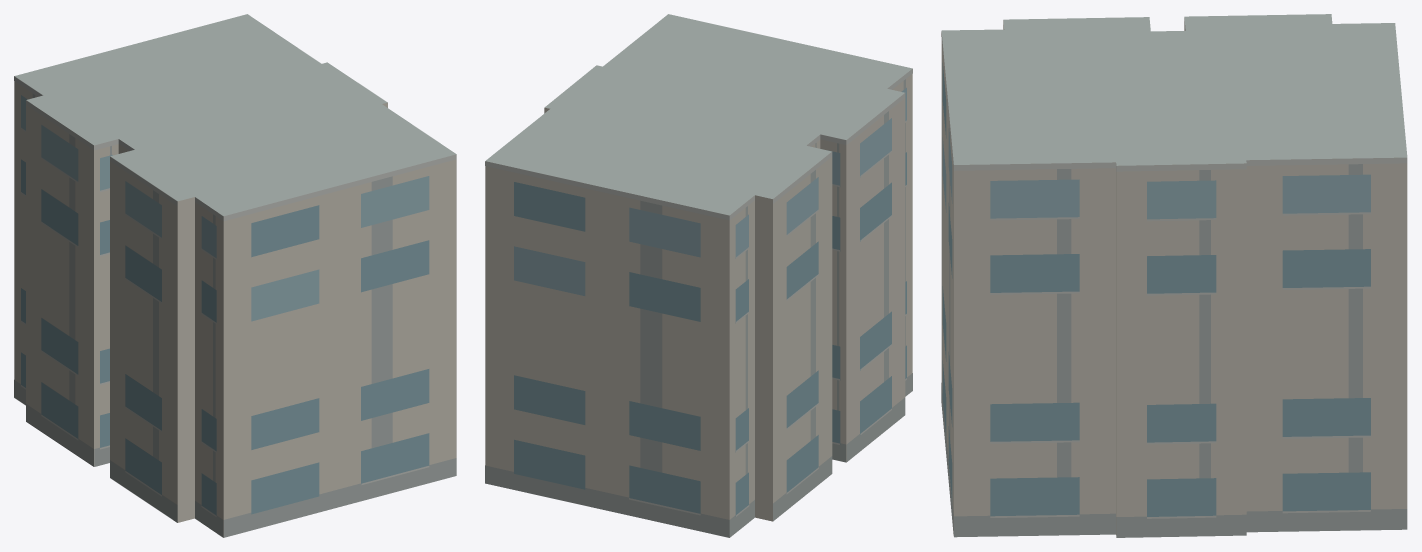
File: survey-upis-32802911.glb
3 renders of one model, left to right at view 1: azimuth 30°, elevation 25°; view 2: azimuth 150°, elevation 25°; view 3: azimuth 270°, elevation 25°, orthographic. The views are drawn at different scales.
Parts seen in each view (by area): view 1: survey-upis-32802911.tmp; view 2: survey-upis-32802911.tmp; view 3: survey-upis-32802911.tmp.
Boxes of the visible parts, x1,y1,x2,y2 form: survey-upis-32802911.tmp: [14, 14, 456, 537]; survey-upis-32802911.tmp: [485, 14, 912, 537]; survey-upis-32802911.tmp: [941, 14, 1407, 537].
Size of the model in its own units: 13.75 by 15.7 by 17.83.
